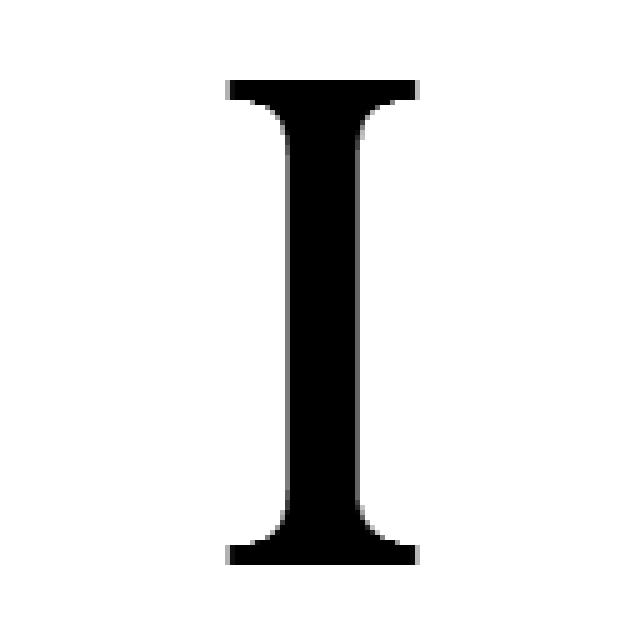I: (225, 80, 420, 570)
